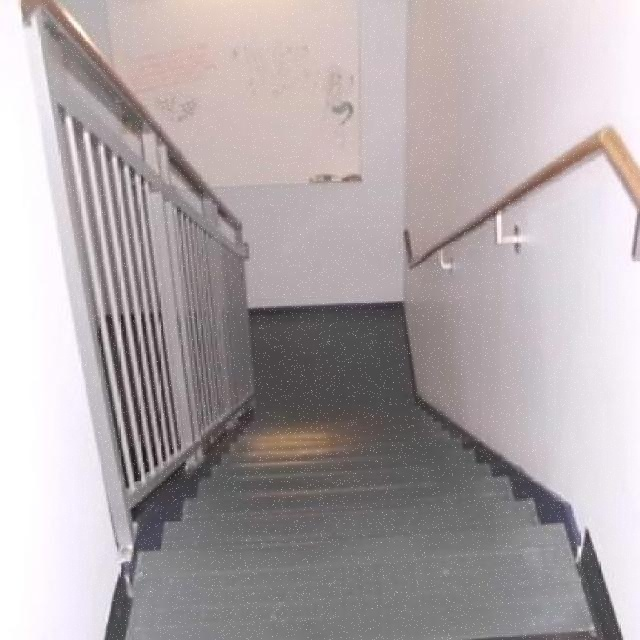stair: (93, 40, 639, 638)
